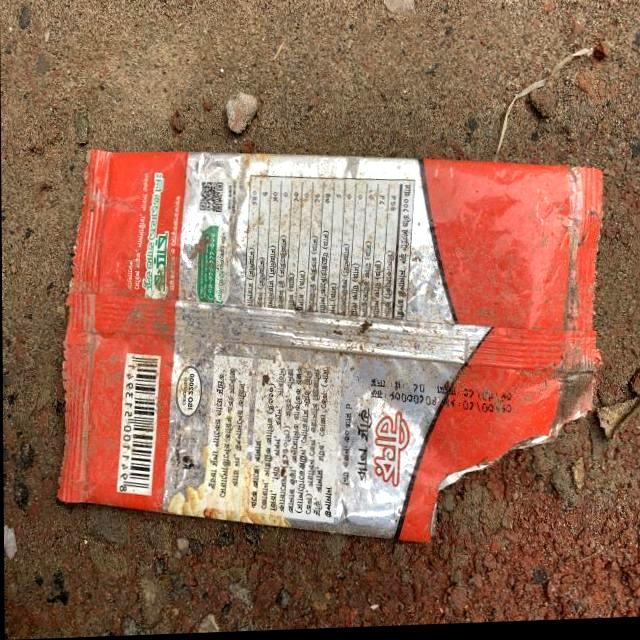packet: (35, 149, 610, 548)
